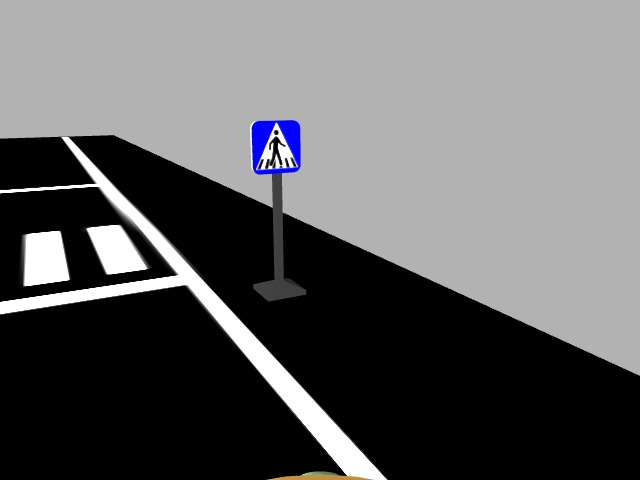Crosswalk: (248, 119, 302, 175)
